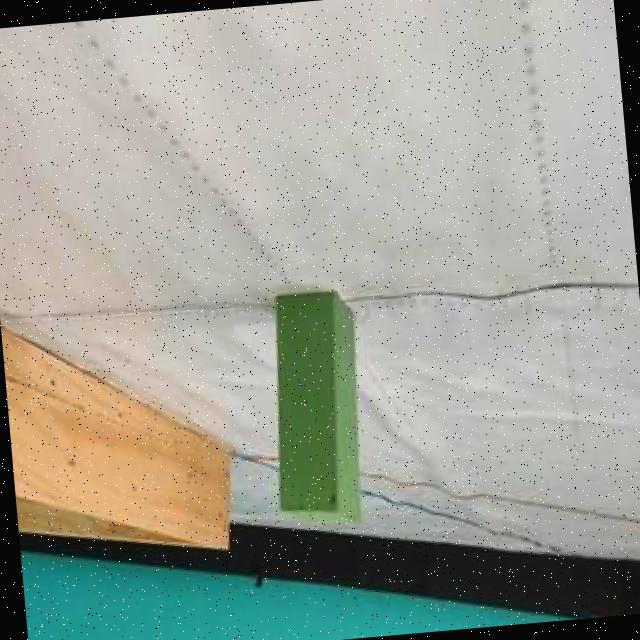greenbox: (262, 289, 366, 531)
